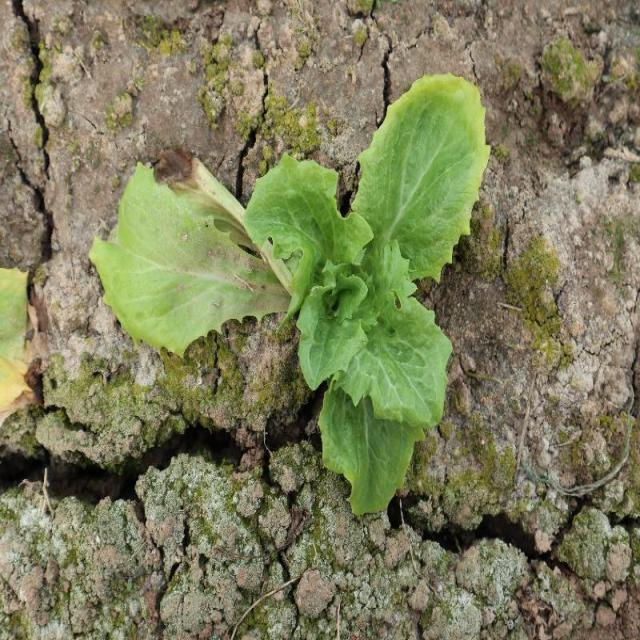crop: (244, 75, 488, 511)
